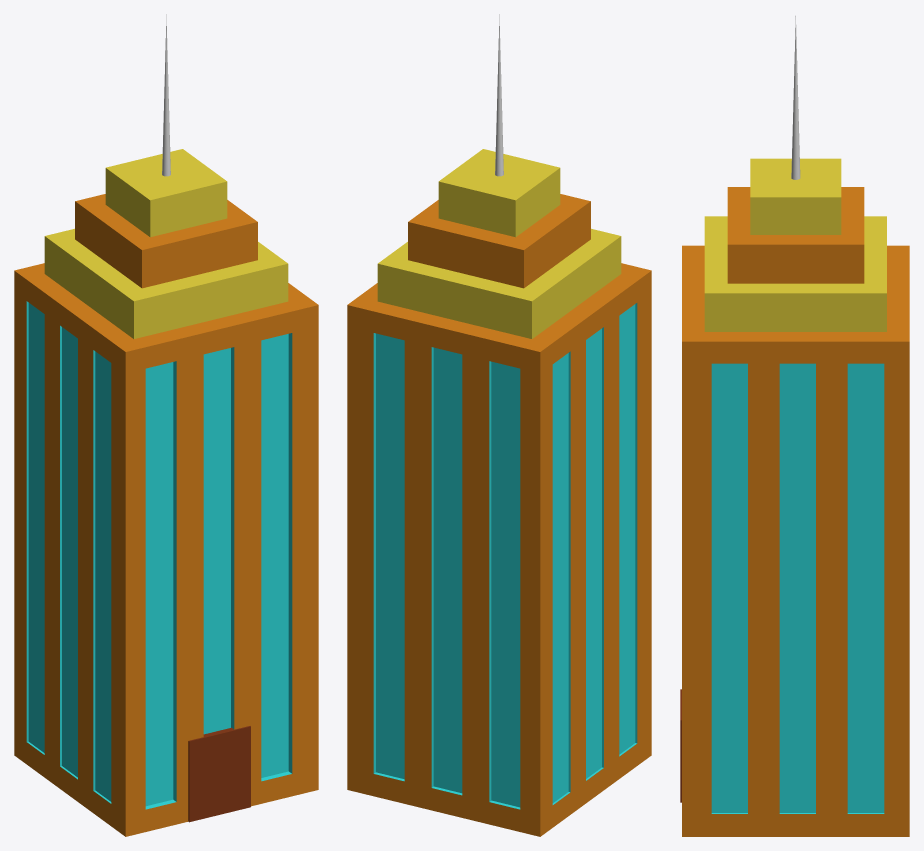
File: lowploybuilding7.FBX
3 renders of one model, left to right at view 1: azimuth 30°, elevation 25°; view 2: azimuth 150°, elevation 25°; view 3: azimuth 270°, elevation 25°, orthographic. The views are drawn at different scales.
Parts seen in each view (by area): view 1: Box006, Box002, Box004, Box005, Box007, Cone001; view 2: Box006, Box002, Box004, Box005, Cone001; view 3: Box006, Box002, Box004, Box005, Cone001.
Boxes of the visible parts, box(x1,y1,x2,y2) form: Box006: box(14, 263, 318, 836); Box002: box(44, 228, 288, 338); Box004: box(75, 194, 257, 288); Box005: box(105, 149, 227, 237); Box007: box(188, 726, 250, 822); Cone001: box(162, 14, 170, 176); Box006: box(347, 263, 651, 836); Box002: box(377, 228, 621, 338); Box004: box(408, 194, 590, 288); Box005: box(438, 149, 560, 237); Cone001: box(495, 14, 503, 176); Box006: box(682, 245, 909, 836); Box002: box(704, 216, 886, 331); Box004: box(727, 187, 864, 283); Box005: box(750, 158, 841, 234); Cone001: box(791, 16, 800, 179).
Size of the model in its own units: 98.43 by 370 by 99.18.
